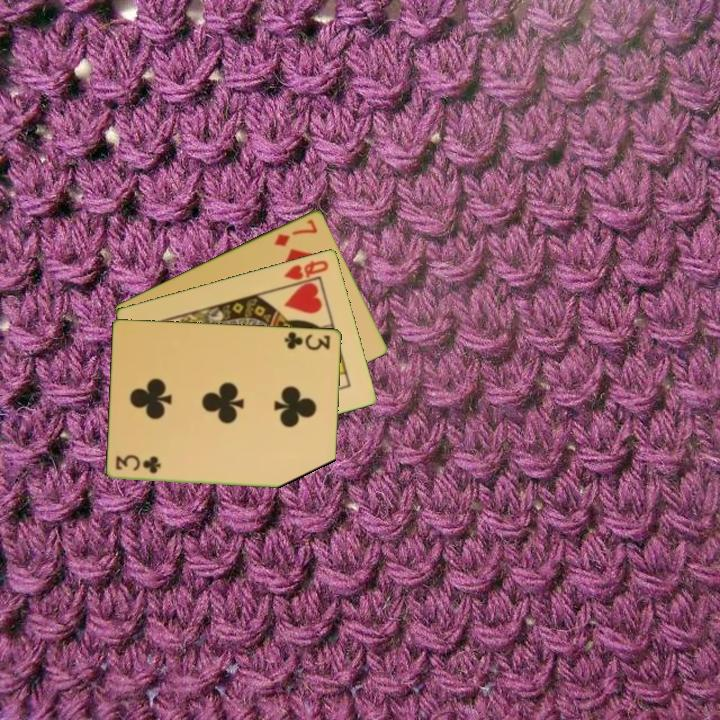3c: (281, 328, 333, 353), (112, 454, 164, 476)
7d: (270, 215, 321, 249)
Qh: (280, 256, 332, 288)
